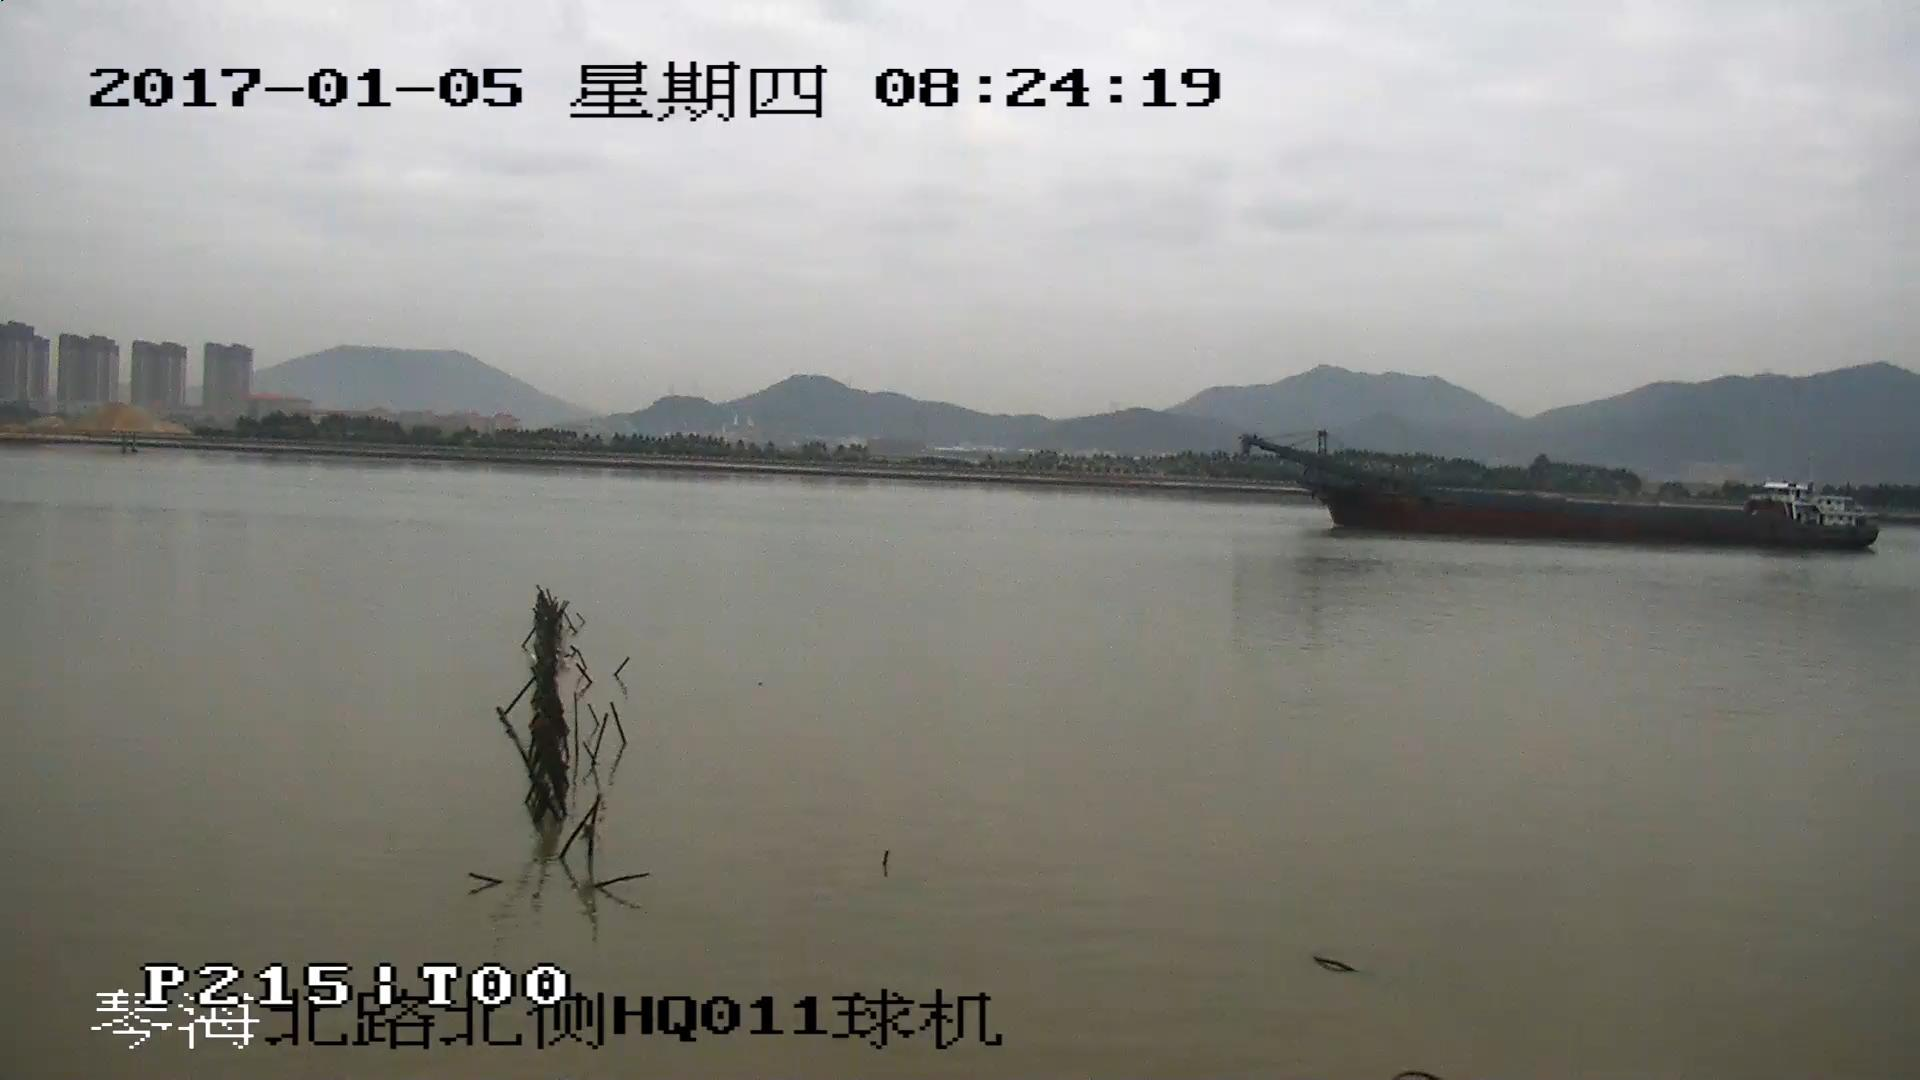Ship: (1244, 436, 1879, 553)
